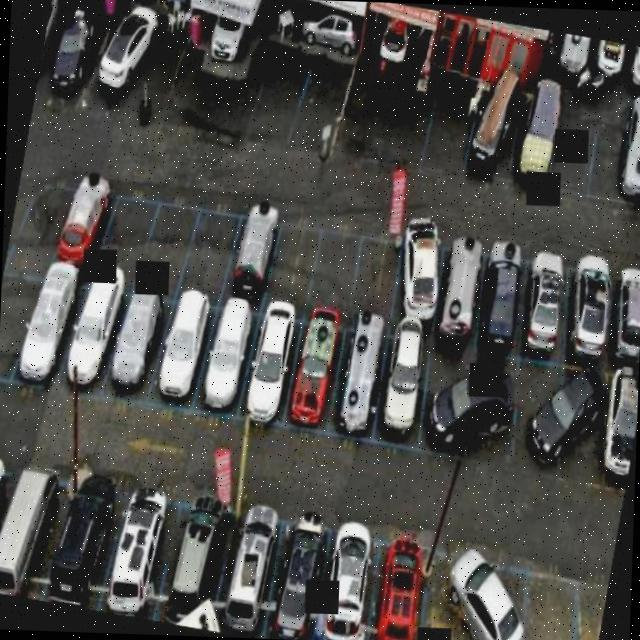empty: (96, 176, 157, 292), (418, 70, 481, 176), (8, 173, 70, 280), (294, 52, 352, 162), (539, 96, 595, 204), (179, 205, 239, 298), (308, 220, 366, 316), (349, 224, 405, 322), (264, 209, 320, 307), (140, 198, 194, 290), (582, 110, 632, 208), (256, 45, 305, 144), (514, 572, 582, 640), (0, 267, 34, 387)
occupied: (47, 476, 126, 612), (323, 314, 394, 449), (158, 499, 230, 631), (214, 511, 286, 638), (0, 459, 64, 601), (370, 320, 438, 452), (264, 512, 333, 640), (105, 496, 174, 622), (359, 531, 437, 640), (191, 298, 260, 419), (14, 270, 76, 404), (87, 0, 156, 120), (104, 286, 171, 409), (309, 526, 381, 640), (242, 302, 305, 428), (458, 349, 524, 468), (416, 337, 478, 463), (41, 0, 106, 118), (470, 235, 535, 352), (148, 291, 210, 411), (63, 276, 122, 398), (502, 356, 564, 472), (415, 544, 489, 640), (285, 314, 345, 432), (548, 366, 610, 478), (506, 76, 564, 194), (561, 260, 626, 364), (466, 554, 537, 640), (518, 252, 576, 354), (466, 71, 520, 180), (393, 226, 449, 329), (434, 230, 488, 336), (592, 368, 638, 490), (58, 173, 112, 274), (130, 23, 182, 126), (224, 198, 276, 298), (603, 267, 640, 371), (615, 106, 640, 214), (0, 446, 12, 592)
